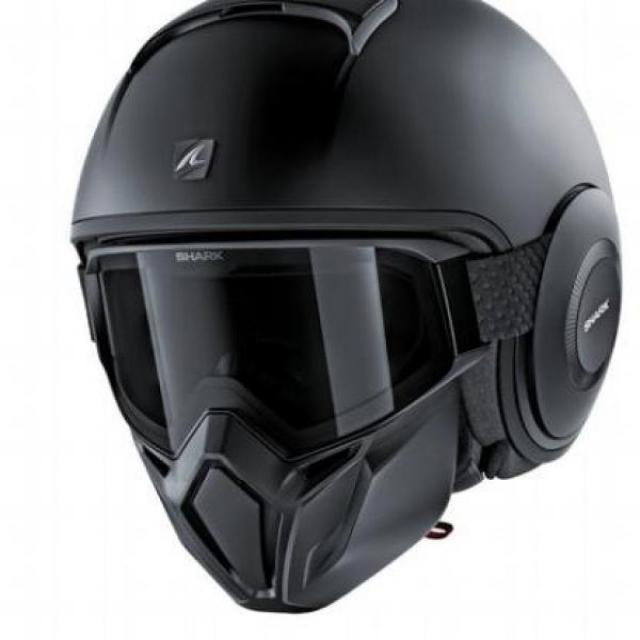Helmet: (68, 2, 614, 595)
